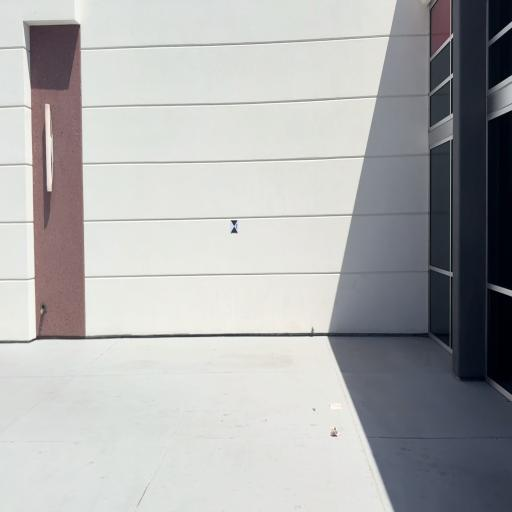target7: (230, 219, 238, 234)
